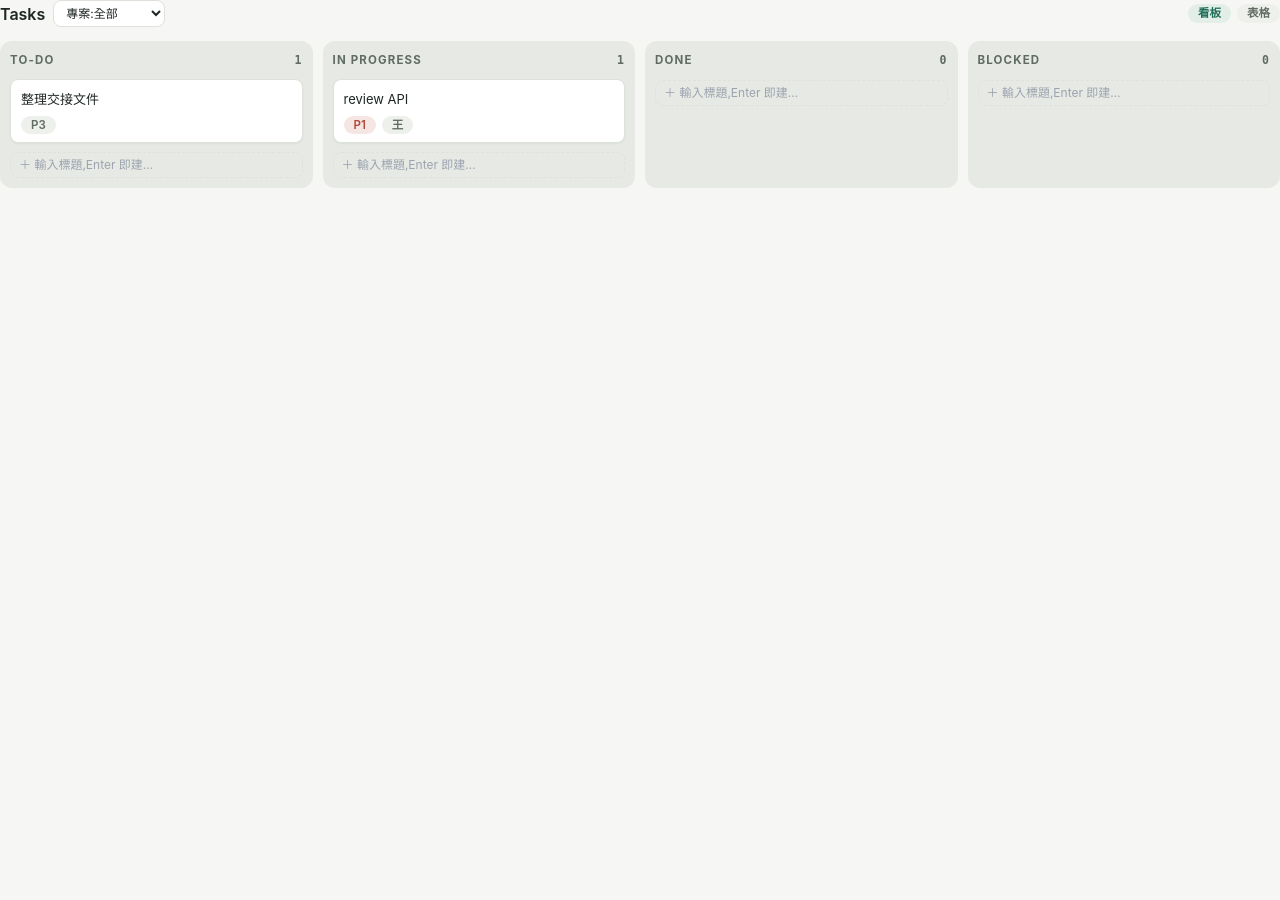
Test: Tasks › shows the task's project by name in the drawer dropdown
Click the button "review API P1 王". click: (376, 99)
box: [332, 78, 625, 143]
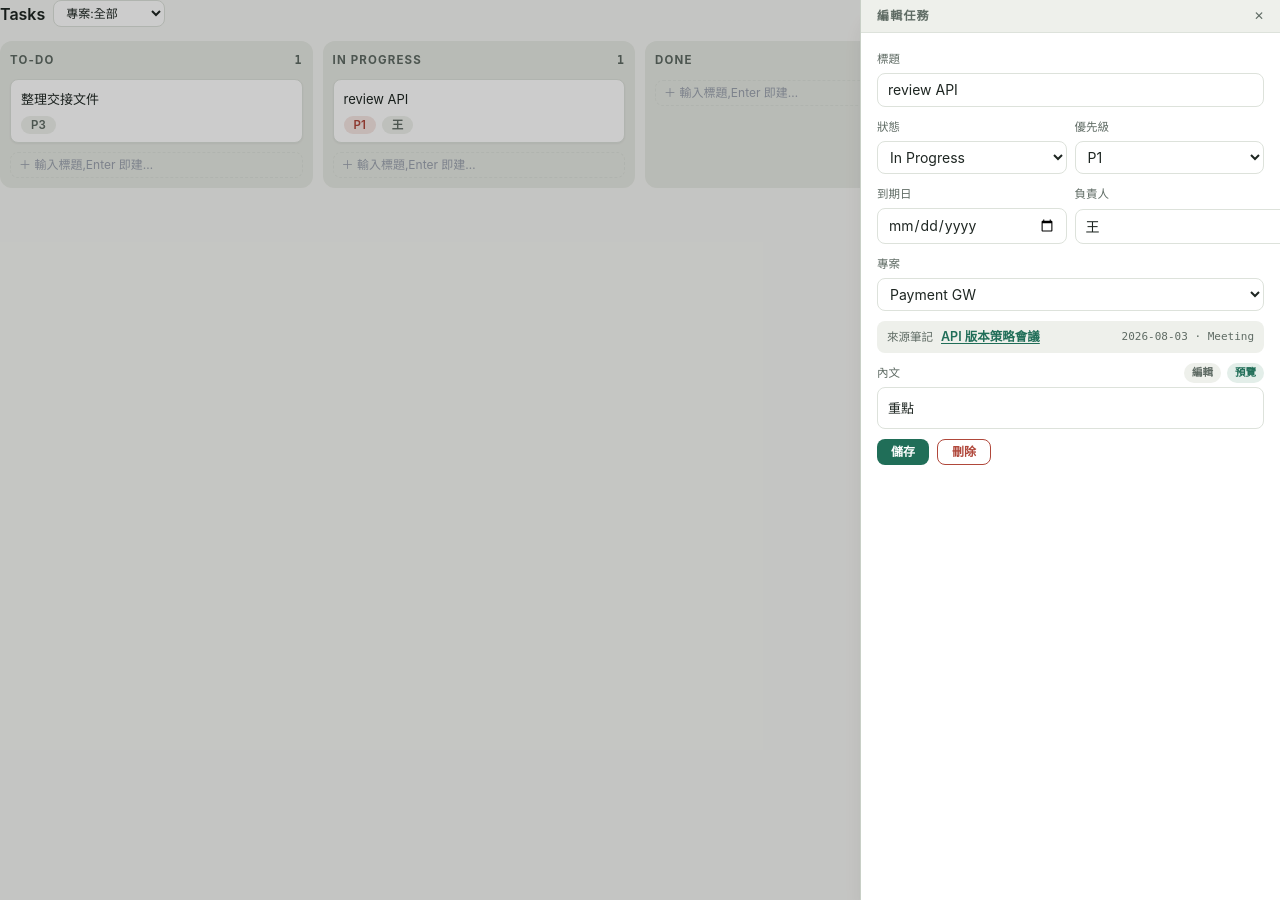
Expected: the dropdown labelled "專案" shows "Payment GW", [877, 278, 1264, 311]
